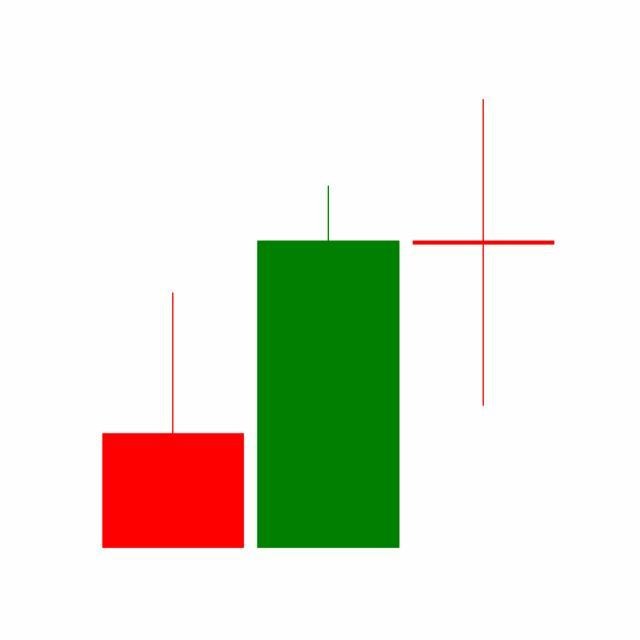Spinning Top: (406, 96, 562, 410)
